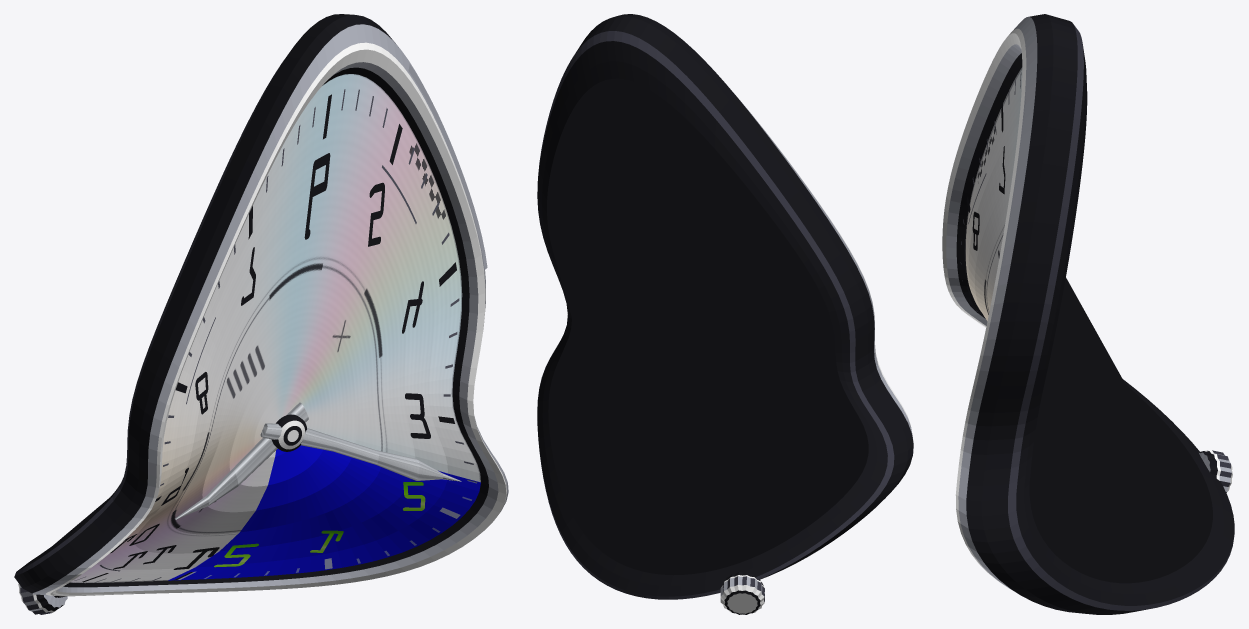
Rendered from clock-02.obj.
3 renders of one model, left to right at view 1: azimuth 30°, elevation 25°; view 2: azimuth 150°, elevation 25°; view 3: azimuth 270°, elevation 25°, orthographic. The views are drawn at different scales.
Parts seen in each view (by area): view 1: clock-02; view 2: clock-02; view 3: clock-02.
Part boxes in pixels (bbox=[...]): clock-02: bbox=[14, 14, 508, 614]; clock-02: bbox=[537, 14, 913, 614]; clock-02: bbox=[942, 14, 1234, 614].
Bounding box in the file's own units: 1.48 × 1.94 × 0.8716.
11 materials, 3 textured.
